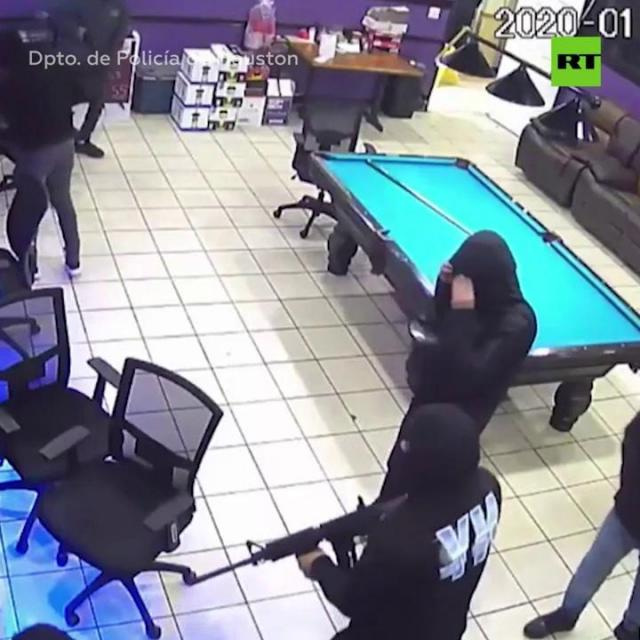weapon: (180, 486, 417, 604)
